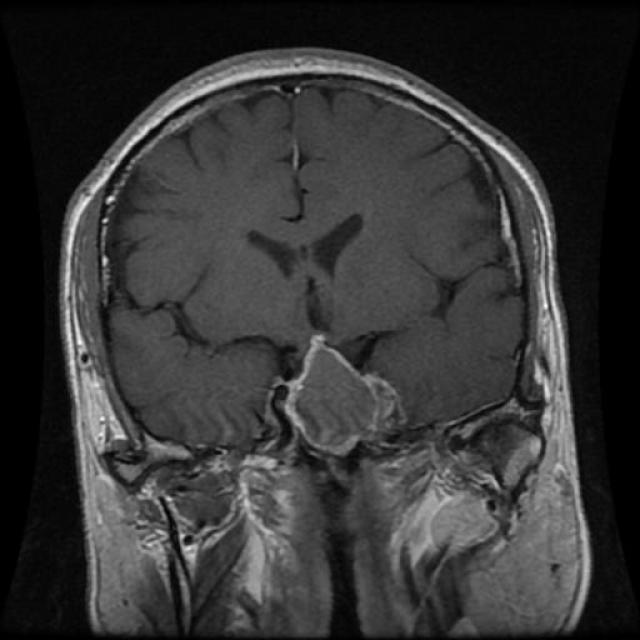Brain-Tumor: (271, 324, 408, 465)
